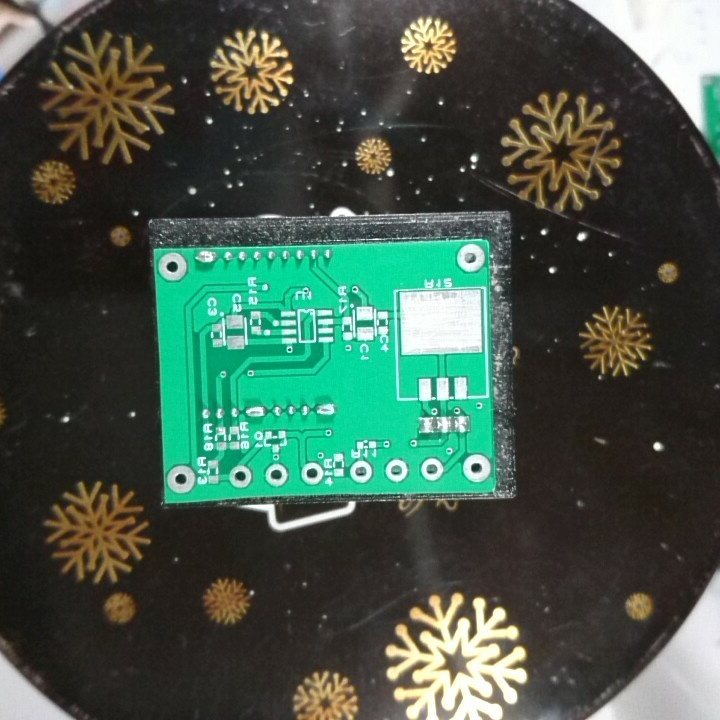F: (454, 241, 488, 275), (156, 250, 188, 283), (166, 463, 197, 495), (462, 452, 492, 484), (418, 454, 445, 483), (347, 458, 374, 486), (383, 457, 411, 483), (263, 462, 288, 489), (228, 463, 253, 489), (299, 460, 324, 486)
P: (313, 399, 337, 420), (242, 403, 268, 422), (193, 249, 219, 266)
